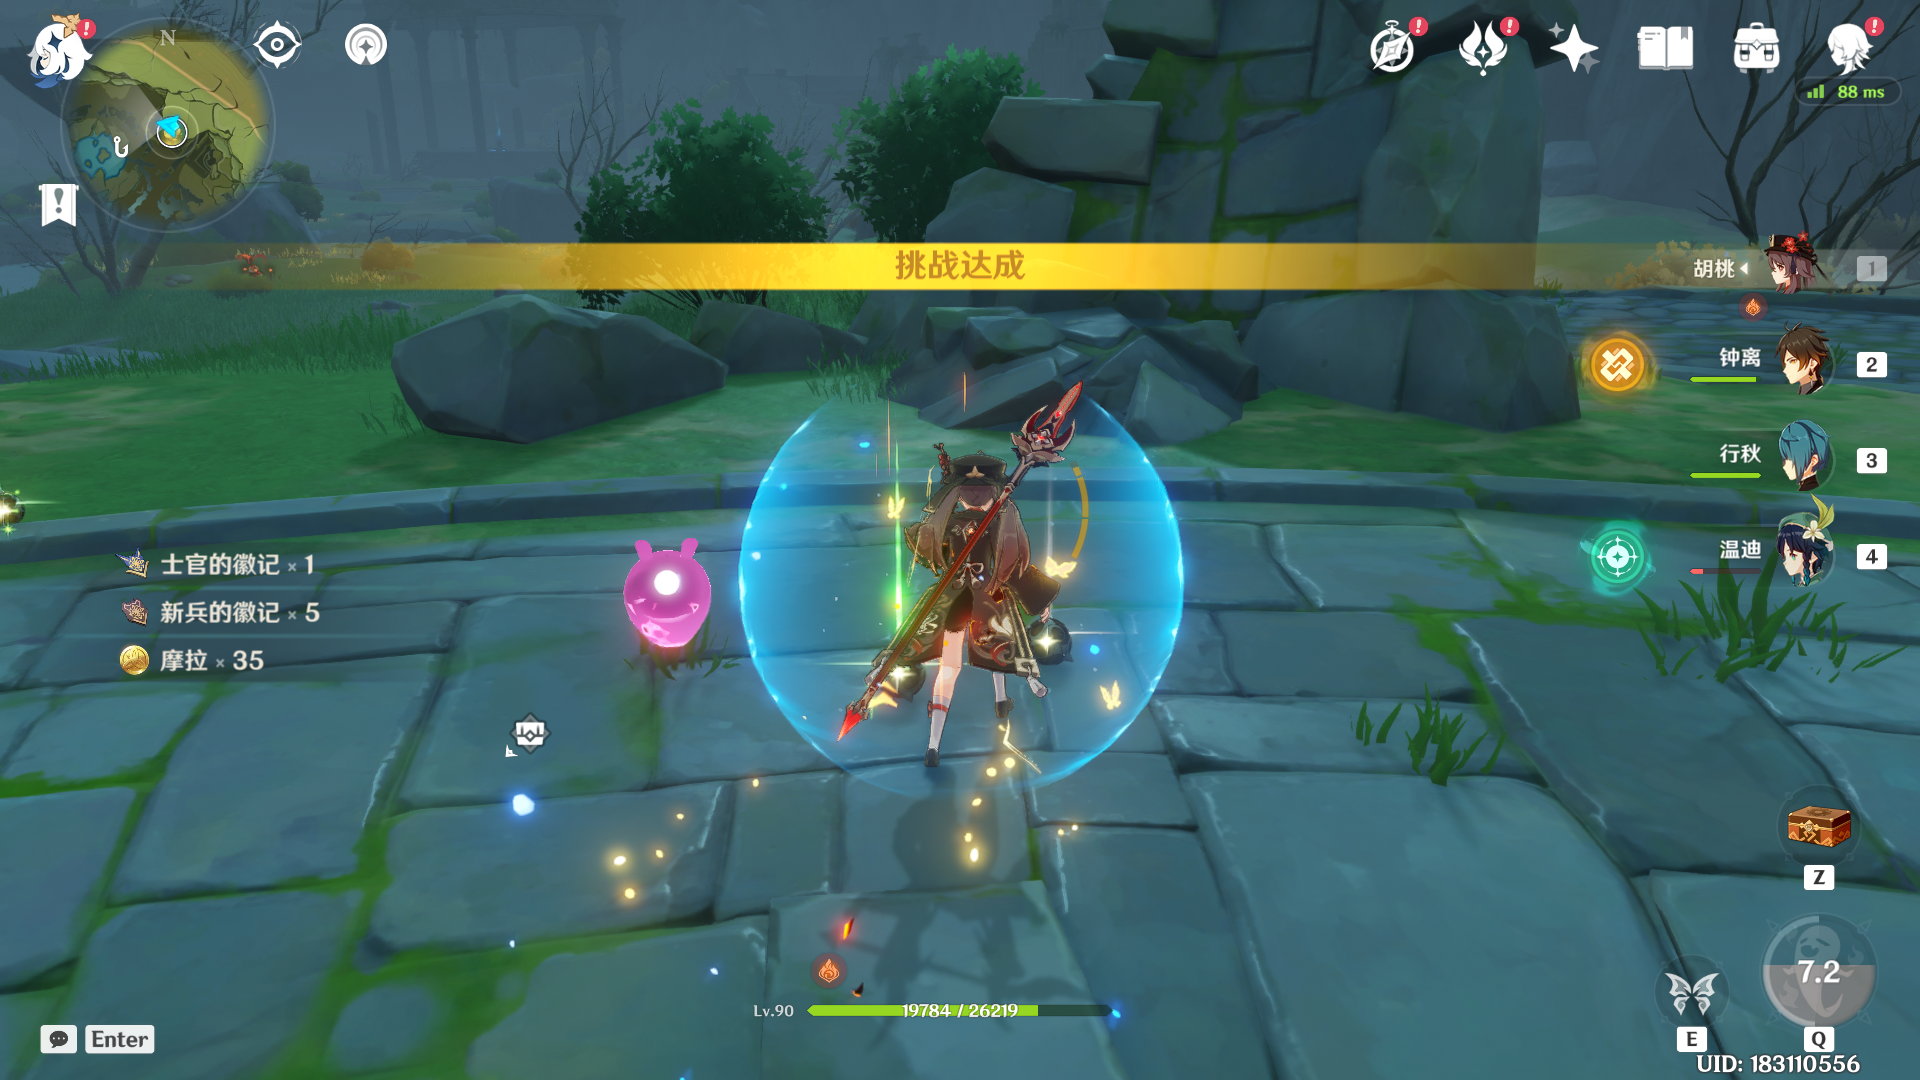character: (823, 411, 1091, 785)
